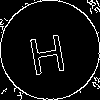H: (25, 25, 68, 76)
